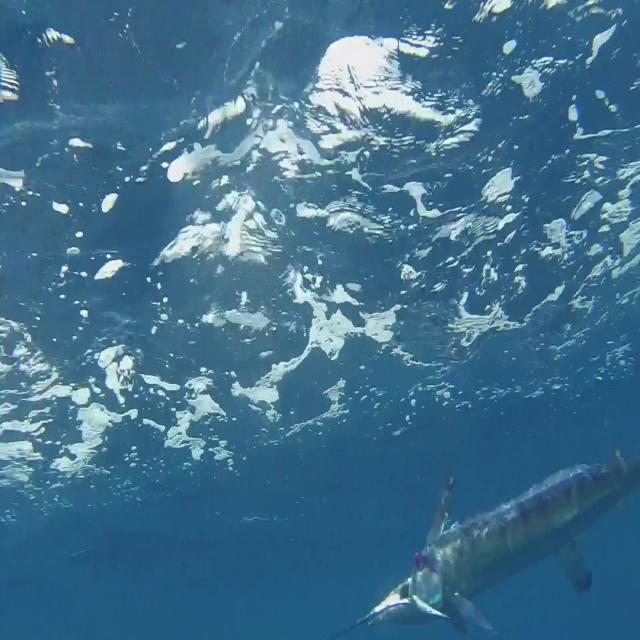Spear Fish: (332, 445, 640, 640)
